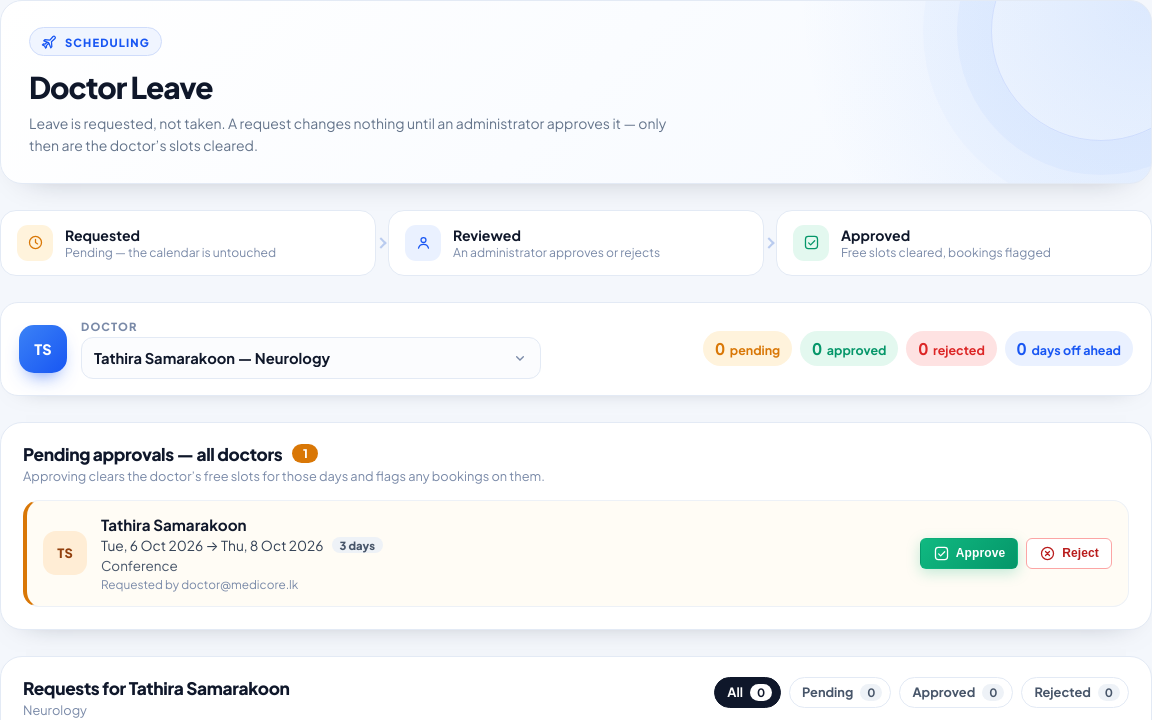
DoctorLeavePage redesign interactions › approves a pending request through a dialog, with a note
The width and height of the screenshot is (1152, 720).
Click the button "Approve": (969,553) [920, 538, 1018, 569]
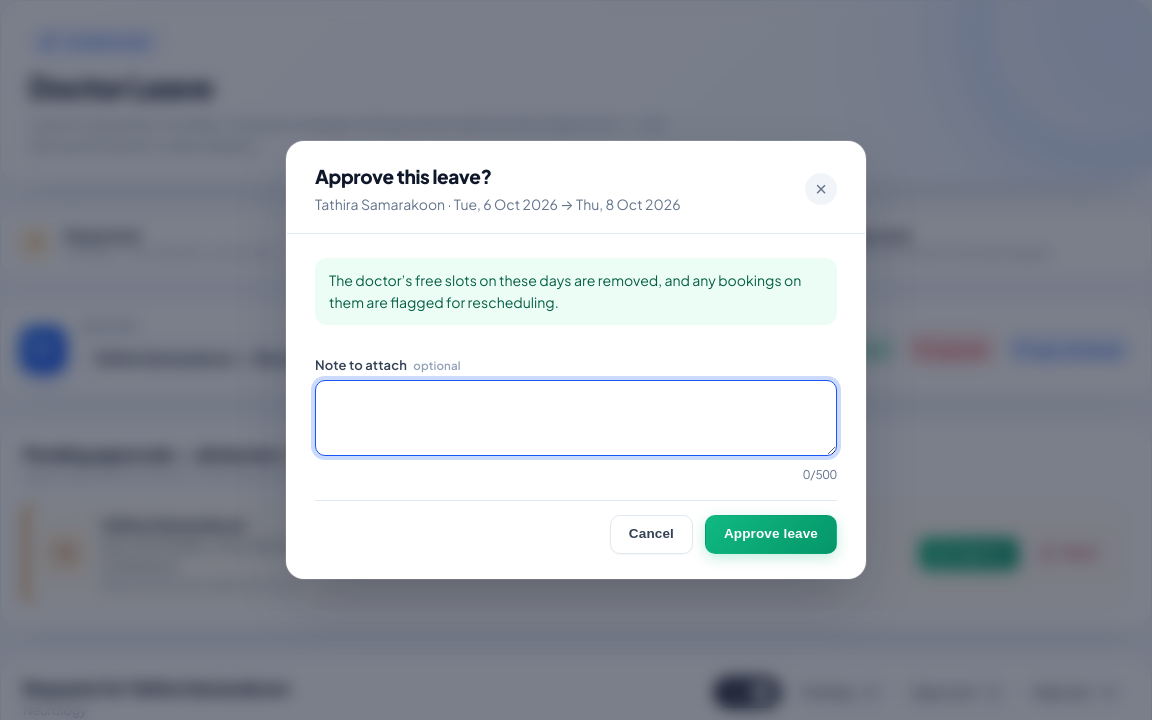
Result: the dialog "Approve this leave?" shows "Tue, 6 Oct 2026 → Thu, 8 Oct 2026" at [315, 195, 680, 213]
In the text box labelled "Note to attach optional": (576,418) [315, 380, 837, 456], type "Enjoy"
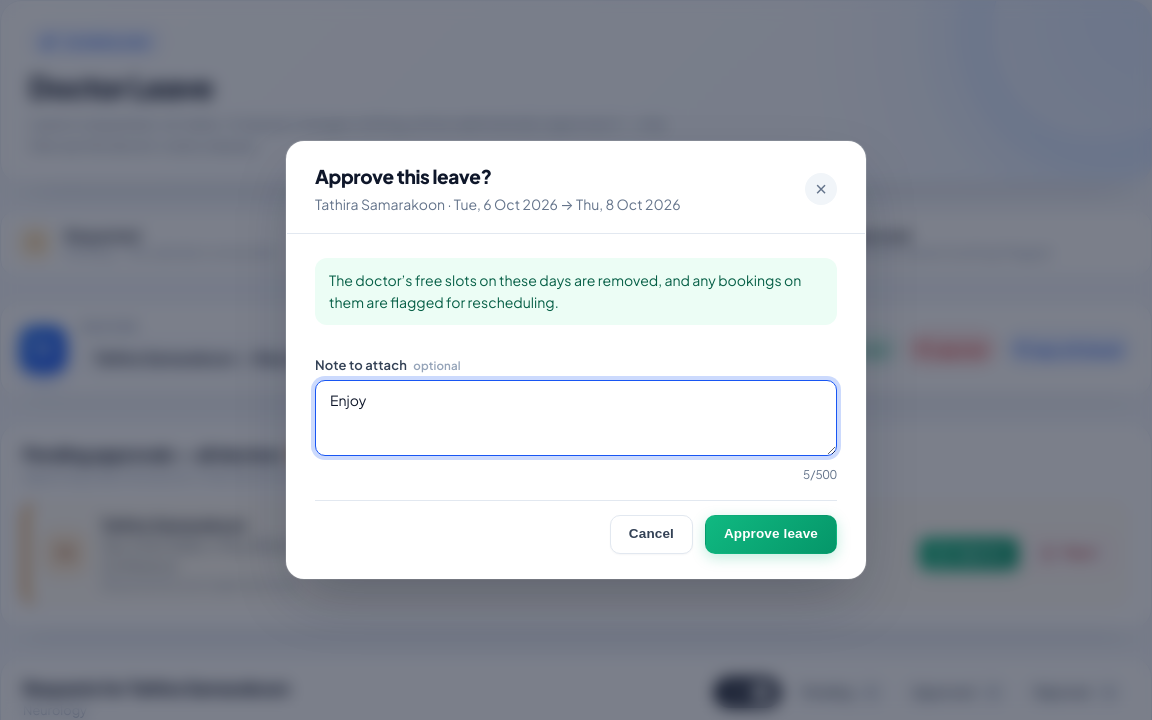
Click the button "Approve leave": (771,535) [705, 515, 837, 554]
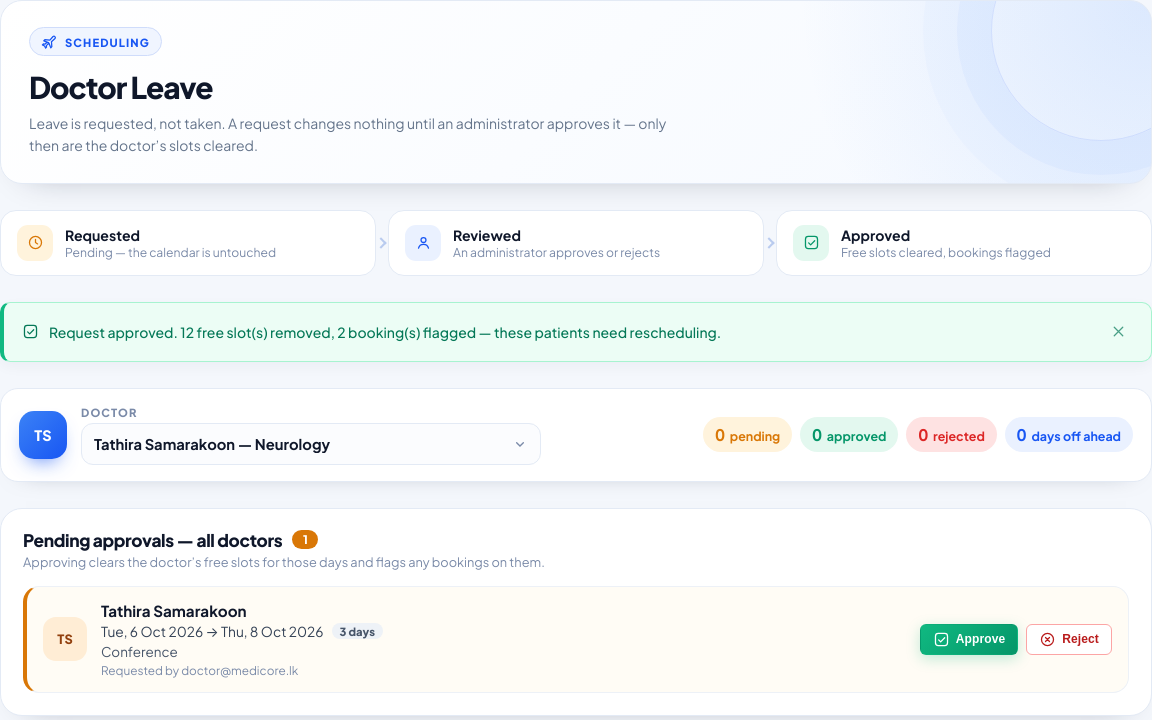
Result: the text "Request approved. 12 free slot(s) removed, 2 booking(s) flagged" is shown at [49, 323, 721, 341]
